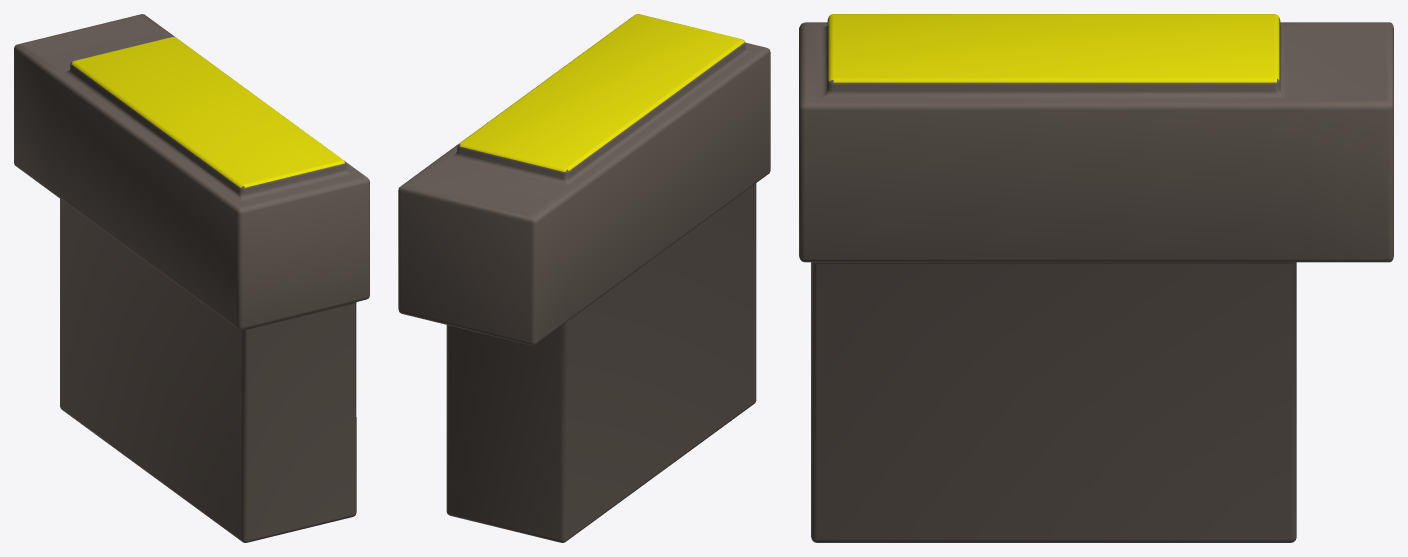
File: tusz.fbx
3 views of the same model, side by side, from view 1: azimuth 30°, elevation 25°; view 2: azimuth 150°, elevation 25°; view 3: azimuth 270°, elevation 25° (orthographic). The views are drawn at different scales.
Visible parts, largest first — view 1: Cube.004; view 2: Cube.004; view 3: Cube.004.
Part boxes in pixels (x1,y1,x2,y2): Cube.004: [14, 14, 369, 542]; Cube.004: [398, 14, 770, 542]; Cube.004: [799, 14, 1393, 542].
Size of the model in its own units: 10.46 by 26.61 by 31.03.
